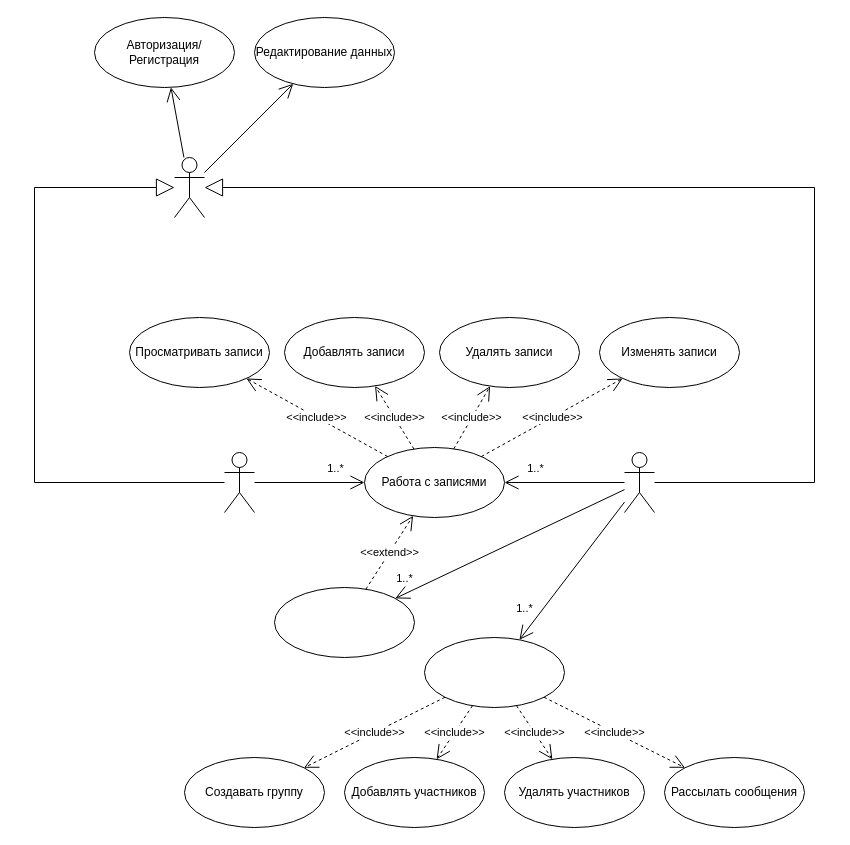
Some shapes in this 850 by 845 pixel diagram are drawn without their labels. The box of each missing label's shape, as (x1, y1, x2, y2) in pixels:
Восстанавливать записи: (274, 586, 414, 658)
Пользователь: (174, 156, 204, 218)
Работа с группой: (424, 636, 564, 708)
Староста: (624, 452, 654, 512)
Студент: (224, 452, 254, 512)
